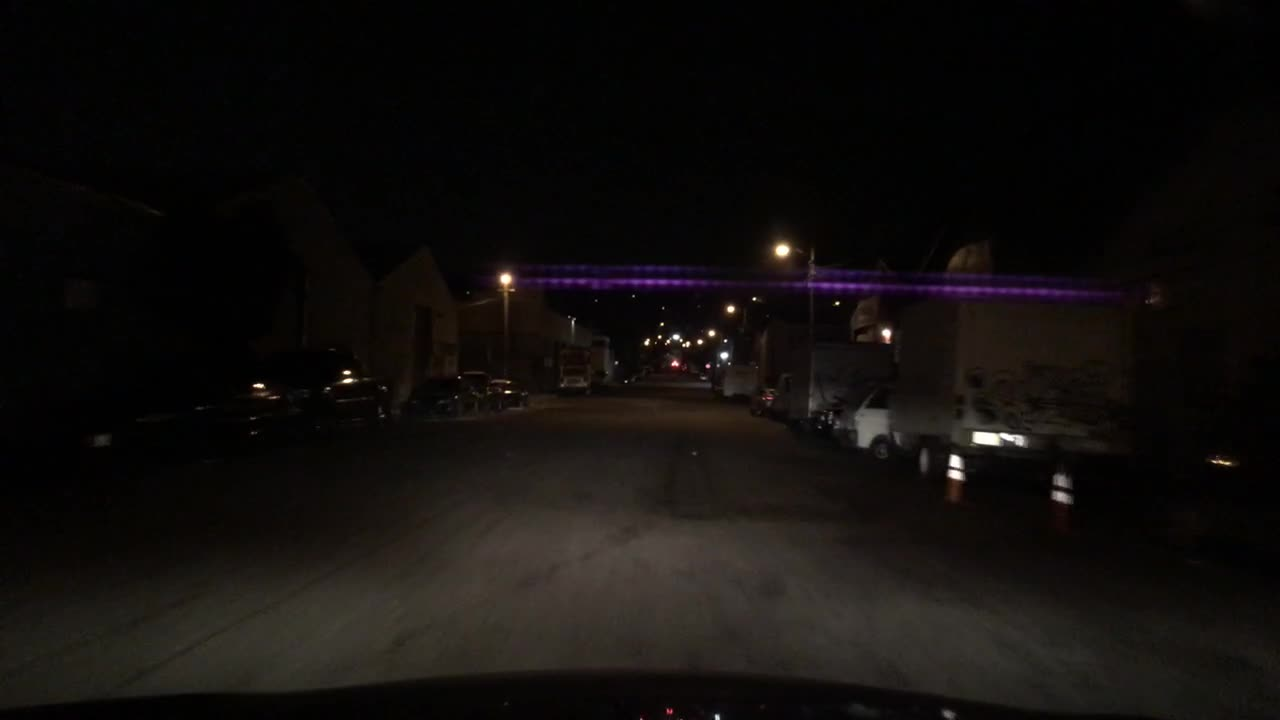car: (840, 381, 894, 456), (217, 381, 292, 433), (319, 373, 392, 424), (403, 372, 478, 418), (720, 365, 759, 401), (468, 373, 502, 412), (557, 363, 591, 396), (489, 376, 528, 402), (748, 386, 775, 413), (1205, 451, 1222, 465), (694, 369, 707, 380)
truck: (888, 299, 1143, 471), (772, 338, 892, 427)
